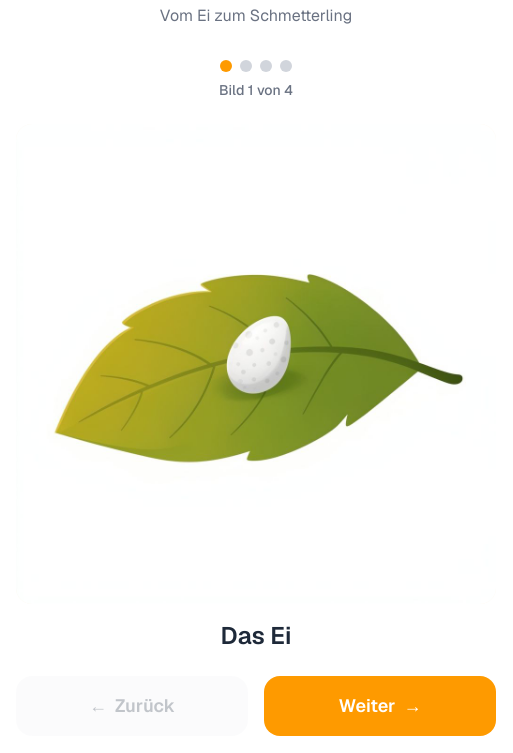
it: LessonFlow › transitions from sequence to quiz after completing sequence
(page scrolled)
Note: Navigate through all 4 sequence images
Click the button labelled "Weiter →" at [380, 706], box [264,676,496,736]
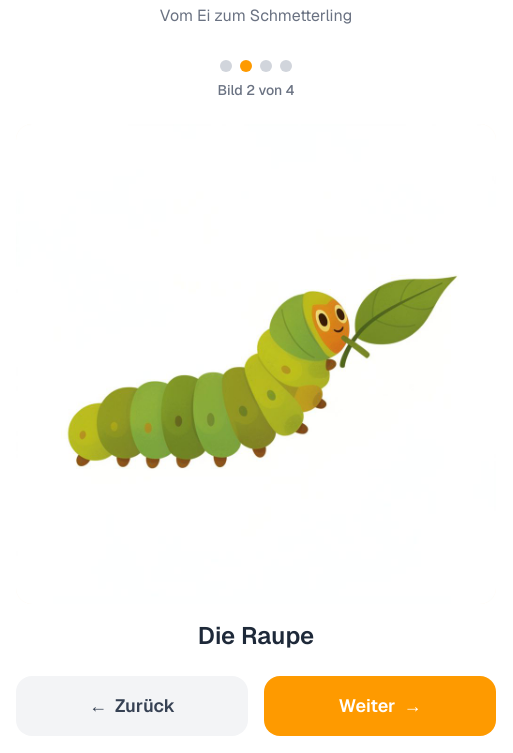
Click the button labelled "Weiter →" at [380, 706], box [264,676,496,736]
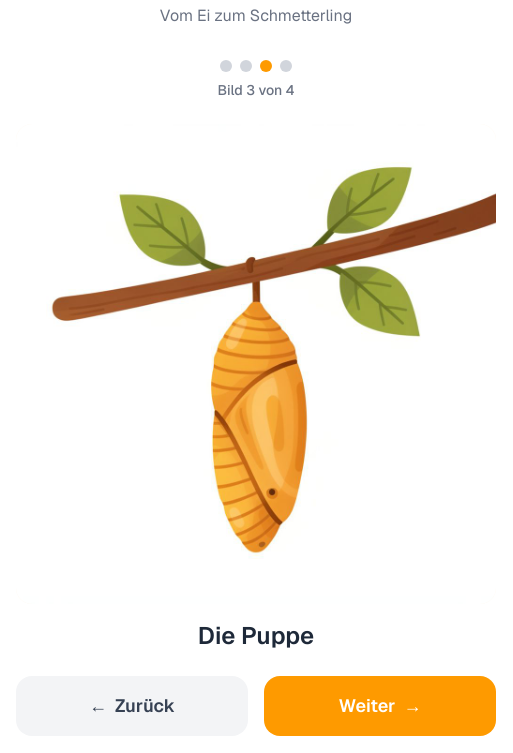
Click the button labelled "Weiter →" at [380, 706], box [264,676,496,736]
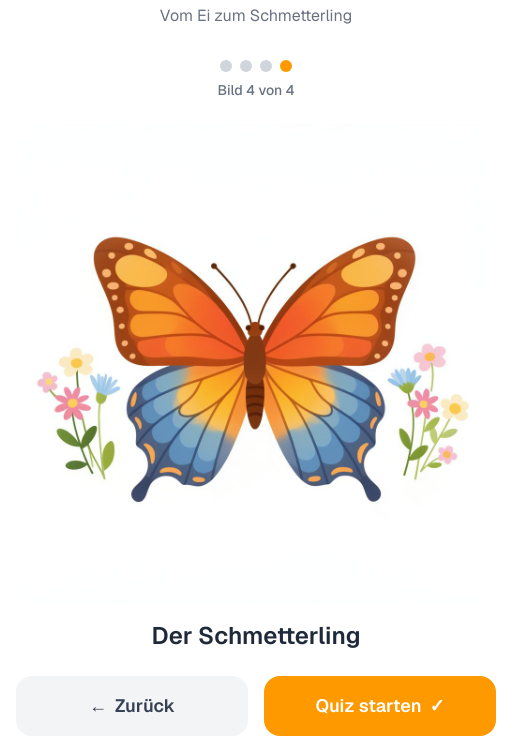
Click the button labelled "Quiz starten ✓" at [380, 706], box [264,676,496,736]
(page scrolled)
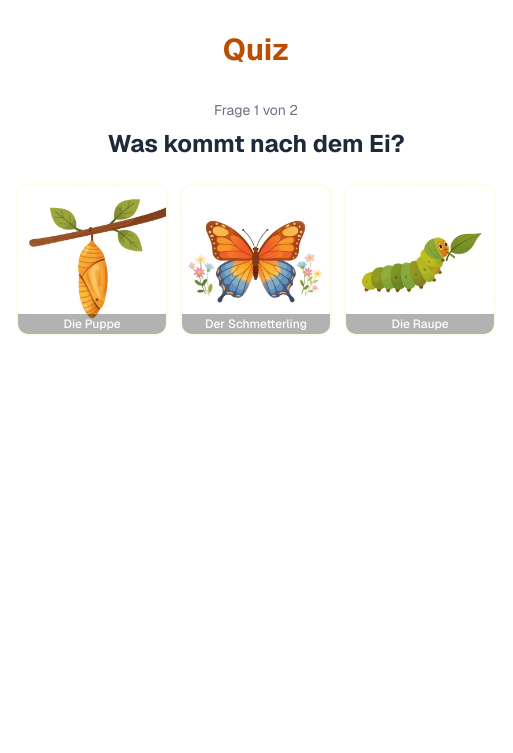
Expected: the heading "Quiz" is shown, [223,32,289,68]
Expected: the heading "Was kommt nach dem Ei?" is shown, [107,128,405,160]
